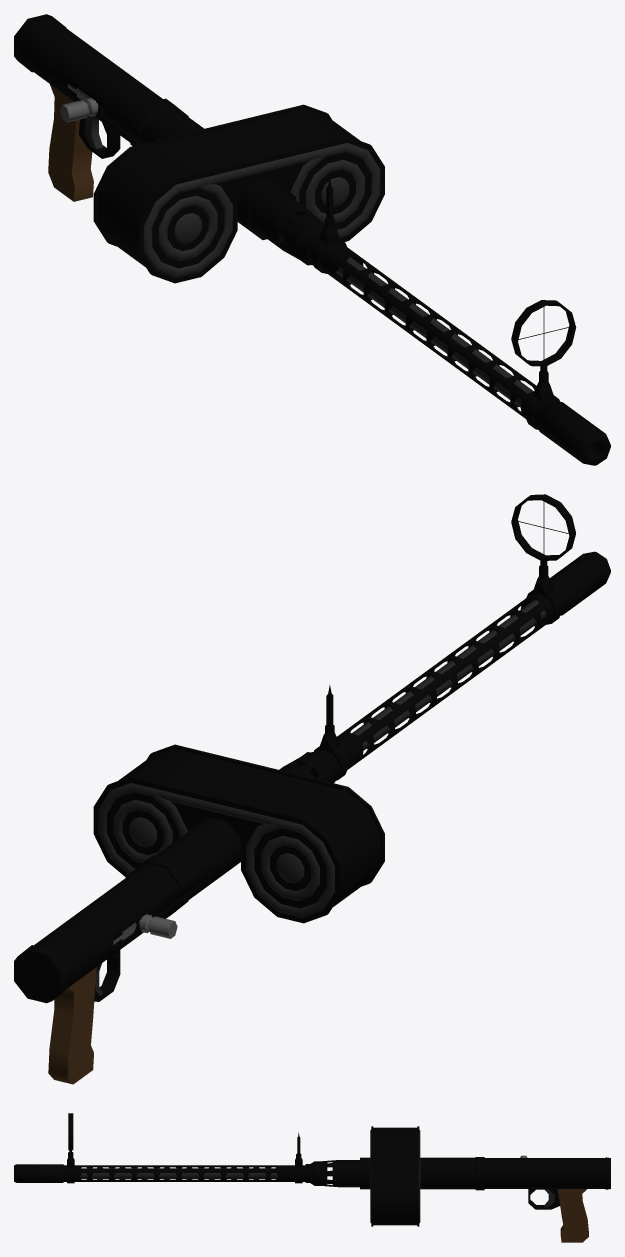
Rendered from mg 15_pose2.obj.
3 renders of one model, top to bottom at view 1: azimuth 30°, elevation 25°; view 2: azimuth 150°, elevation 25°; view 3: azimuth 270°, elevation 25°, orthographic. The views are drawn at different scales.
Visible parts, largest first — view 1: Cylinder.002; view 2: Cylinder.002; view 3: Cylinder.002.
Part boxes in pixels (x1=…): Cylinder.002: x1=14, y1=14, x2=610, y2=465; Cylinder.002: x1=14, y1=494, x2=610, y2=1084; Cylinder.002: x1=14, y1=1113, x2=610, y2=1242.
Bounding box in the file's own units: 1.5 × 1.37 × 5.9.
